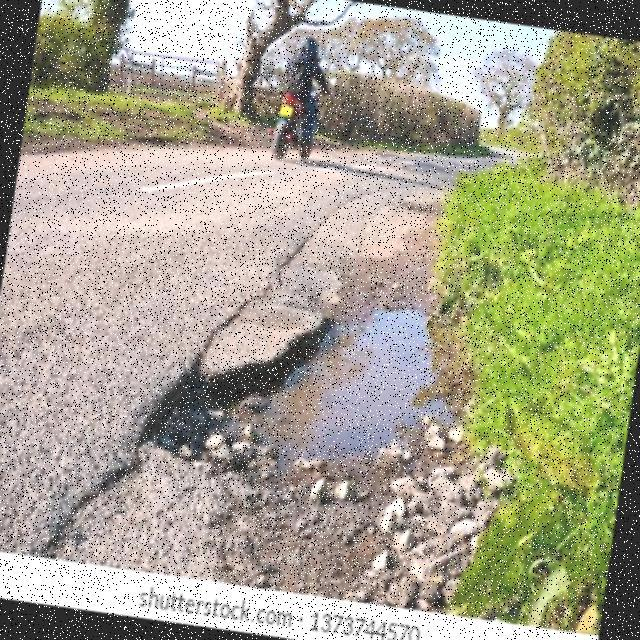Pothole: (138, 309, 457, 473)
